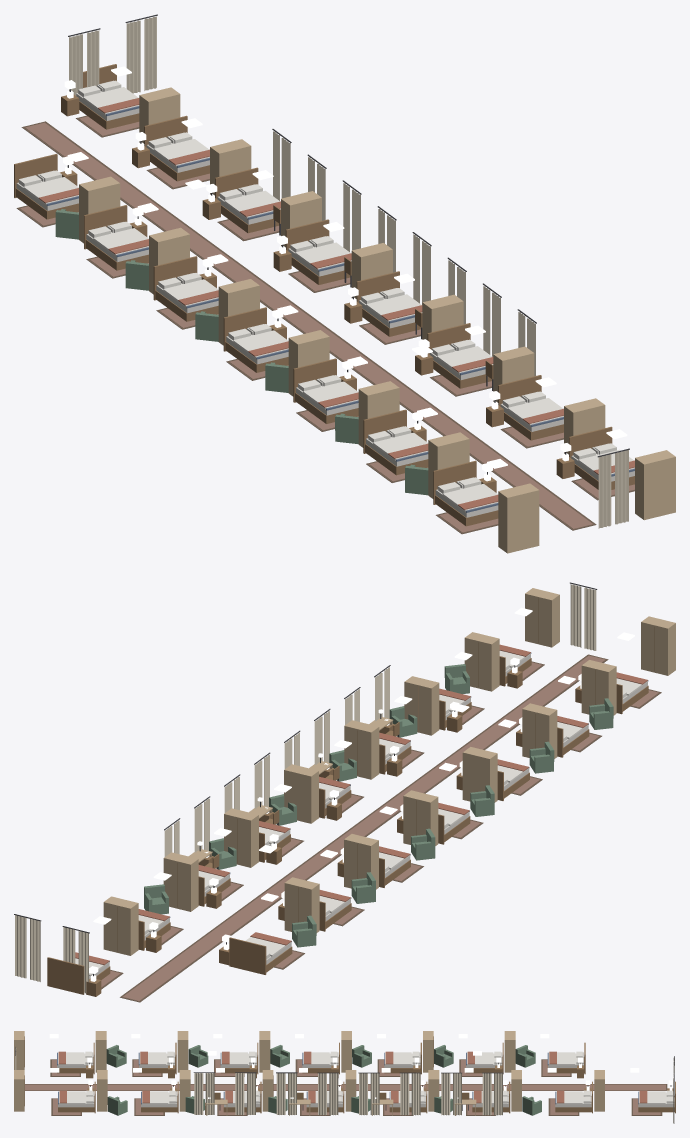
The model's file is fine-s1.glb.
The picture shows the model from 3 angles, top to bottom: view 1: azimuth 30°, elevation 25°; view 2: azimuth 150°, elevation 25°; view 3: azimuth 270°, elevation 25°; orthographic projection. The views are drawn at different scales.
Visible parts, largest first — view 1: soft-s1, dresser.006, dresser.014, bed-frame.006, bed-frame.002, bed-frame.003, bed-frame.004, bed-frame.005, bed-frame.001, bed-frame.000, bed-frame.008, bed-frame.013 (+19 smaller); view 2: soft-s1, dresser.007, dresser.006, dresser.014, dresser.008, dresser.013, dresser.012, dresser.011, dresser.009, dresser.010, dresser.003, dresser.005 (+14 smaller); view 3: soft-s1, dresser.000, dresser.003, dresser.004, dresser.005, dresser.007, dresser.008, dresser.013, dresser.014, dresser.001, dresser.002, bed-frame.013 (+31 smaller).
Boxes of the visible parts, left/top/right/bottom form: soft-s1: left=16, top=14, right=634, bottom=534; dresser.006: left=498, top=483, right=539, bottom=553; dresser.014: left=635, top=450, right=675, bottom=520; bed-frame.006: left=433, top=460, right=498, bottom=526; bed-frame.002: left=153, top=256, right=218, bottom=321; bed-frame.003: left=223, top=307, right=288, bottom=372; bed-frame.004: left=293, top=358, right=358, bottom=423; bed-frame.005: left=363, top=409, right=428, bottom=475; bed-frame.001: left=84, top=205, right=148, bottom=270; bed-frame.000: left=14, top=154, right=78, bottom=219; bed-frame.008: left=144, top=115, right=209, bottom=181; bed-frame.013: left=498, top=375, right=563, bottom=440; soft-s1: left=14, top=582, right=661, bottom=1002; dresser.007: left=103, top=896, right=138, bottom=955; dresser.006: left=641, top=616, right=675, bottom=675; dresser.014: left=525, top=588, right=559, bottom=647; dresser.008: left=163, top=852, right=198, bottom=911; dresser.013: left=464, top=632, right=499, bottom=691; dresser.012: left=404, top=676, right=439, bottom=735; dresser.011: left=344, top=720, right=379, bottom=779; dresser.009: left=224, top=808, right=258, bottom=867; dresser.010: left=284, top=764, right=318, bottom=823; dresser.003: left=462, top=747, right=497, bottom=802; dresser.005: left=581, top=660, right=616, bottom=715; soft-s1: left=15, top=1047, right=674, bottom=1123; dresser.000: left=504, top=1031, right=515, bottom=1072; dresser.003: left=259, top=1031, right=270, bottom=1072; dresser.004: left=177, top=1031, right=188, bottom=1072; dresser.005: left=95, top=1031, right=106, bottom=1072; dresser.007: left=594, top=1070, right=604, bottom=1111; dresser.008: left=511, top=1070, right=521, bottom=1111; dresser.013: left=97, top=1070, right=107, bottom=1111; dresser.014: left=14, top=1070, right=24, bottom=1111; dresser.001: left=423, top=1031, right=433, bottom=1072; dresser.002: left=341, top=1031, right=351, bottom=1072; bed-frame.013: left=141, top=1081, right=178, bottom=1113.
Bounding box in the file's own units: 8.6 × 2.66 × 36.81.
